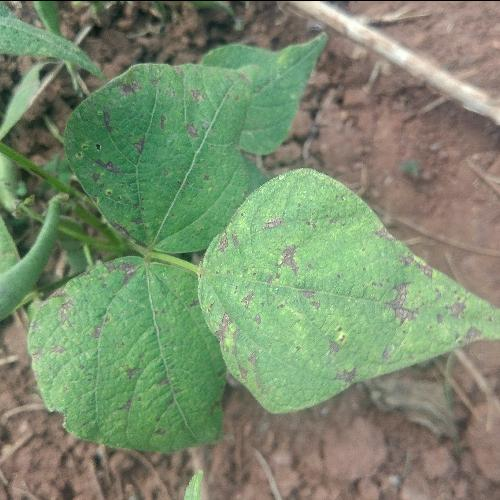hawar: (41, 258, 141, 386), (220, 304, 279, 390), (419, 292, 482, 359), (263, 224, 316, 283), (78, 149, 122, 217), (326, 340, 358, 386)
mozaik: (57, 92, 396, 414)
